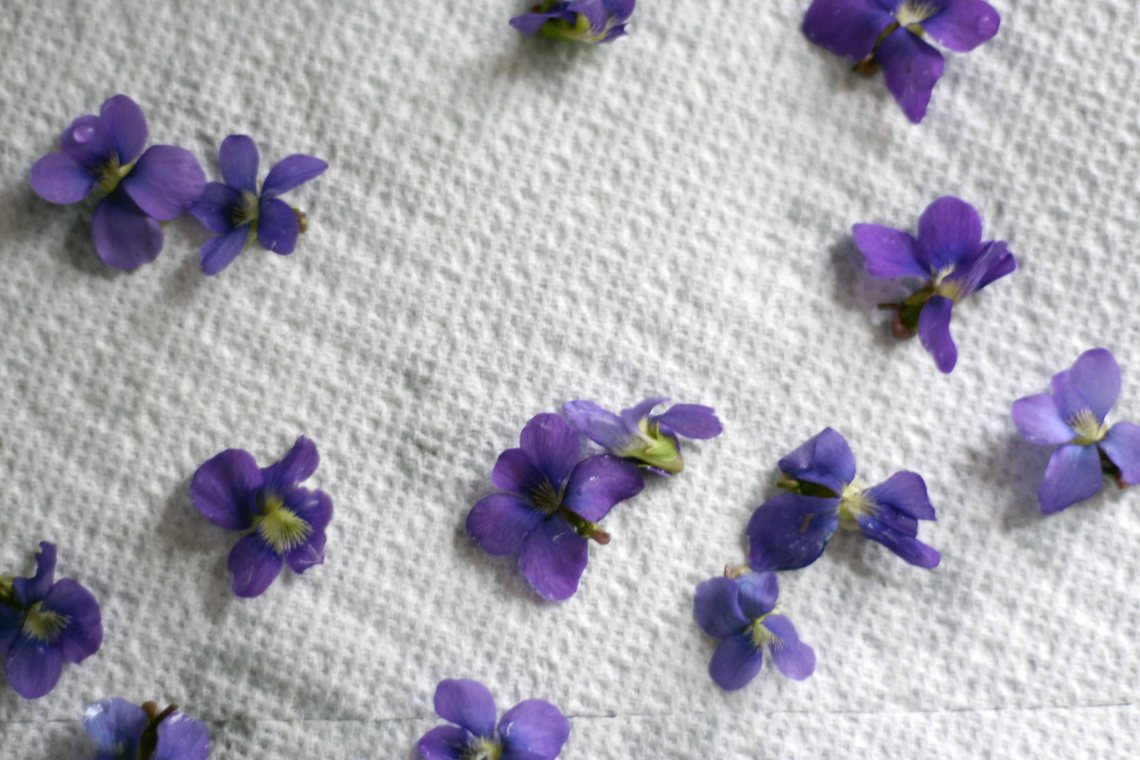violet: (755, 408, 938, 584), (462, 404, 621, 604), (851, 192, 1017, 373), (27, 107, 213, 258), (807, 1, 1014, 129), (1004, 340, 1140, 517), (185, 439, 349, 580), (191, 121, 330, 259), (395, 666, 575, 760), (692, 564, 824, 691), (3, 561, 116, 694), (84, 692, 217, 760)
